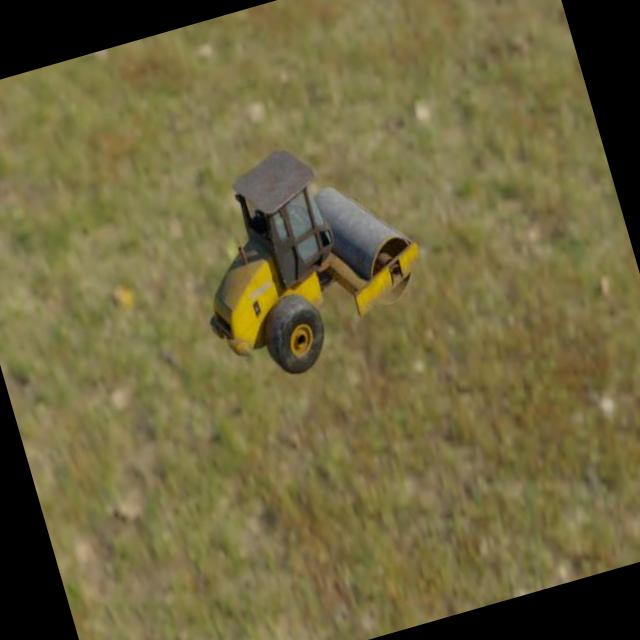Roller: (167, 118, 442, 393)
